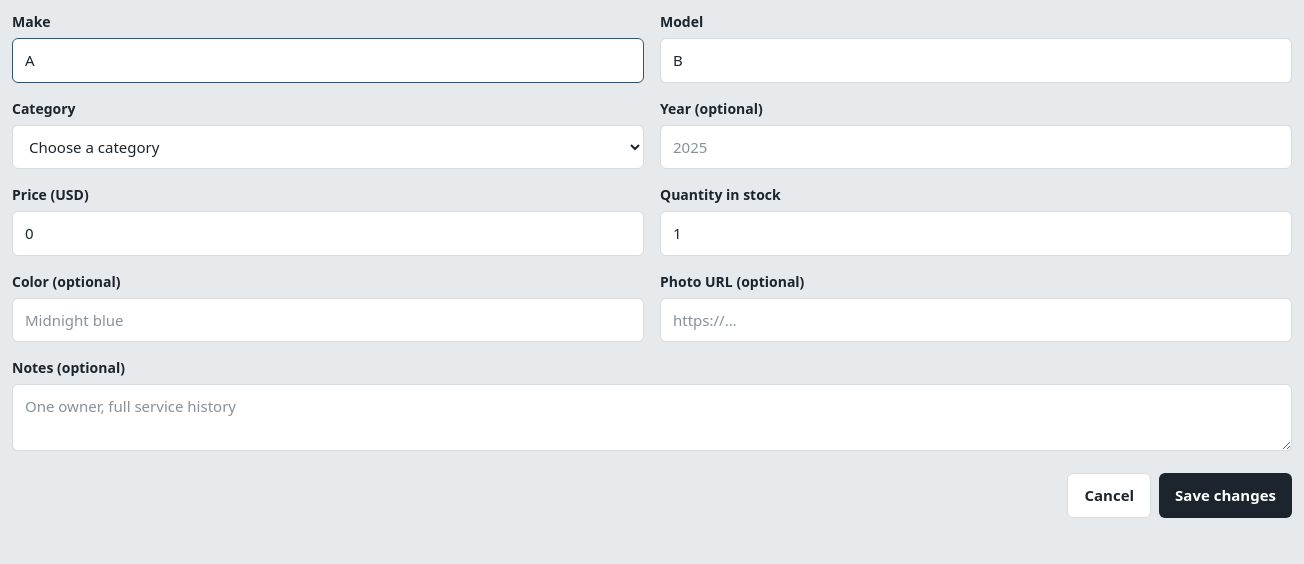
Test case: VehicleForm › rejects a non-positive price
Click the button "Save changes": x=1226, y=495 left=1159, top=473, right=1292, bottom=518
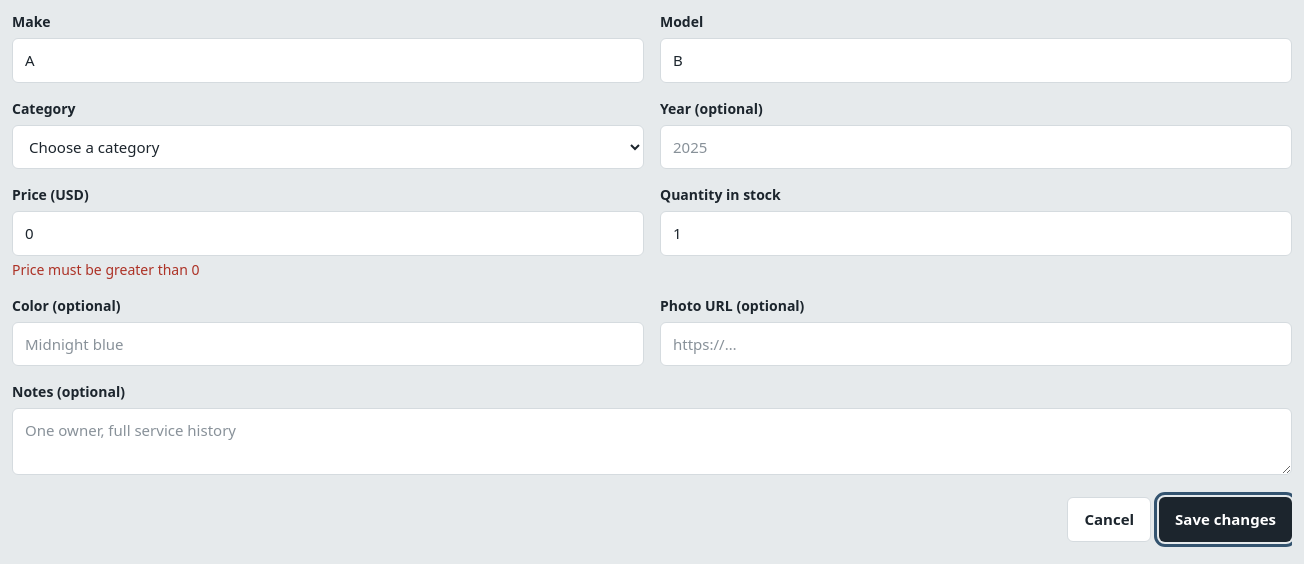
Result: the text "Price must be greater than 0" is shown at left=12, top=260, right=200, bottom=278
